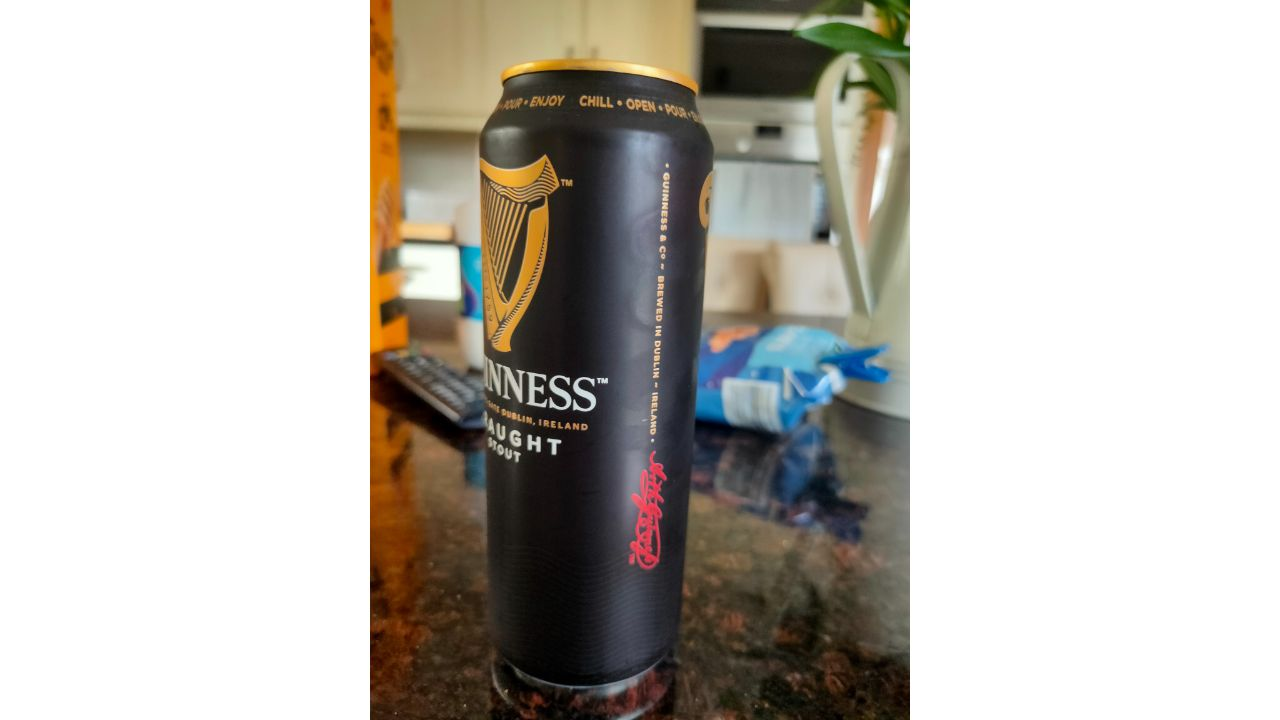Can: (471, 61, 717, 687)
